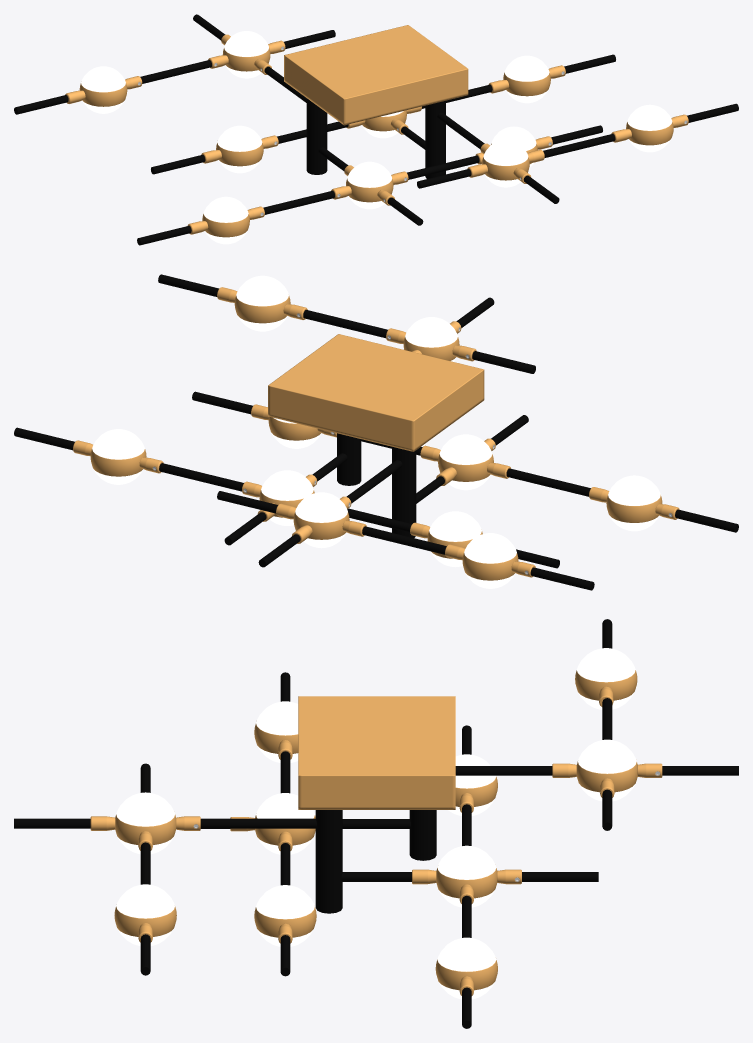
Rendered from 745147_bergamo_lightstar_ceiling_chandelier.glb.
3 renders of one model, top to bottom at view 1: azimuth 30°, elevation 25°; view 2: azimuth 150°, elevation 25°; view 3: azimuth 270°, elevation 25°, orthographic. The views are drawn at different scales.
Visible parts, largest first — view 1: Box014, Circle090, Circle086, Circle091, Circle092, Circle093, Circle089, Circle084, Circle088, Cylinder420, Cylinder412, Circle085 (+14 smaller); view 2: Box014, Circle092, Circle090, Circle086, Circle091, Circle084, Circle089, Cylinder420, Circle088, Circle093, Circle085, Cylinder412 (+14 smaller); view 3: Box014, Cylinder412, Circle087, Circle092, Circle086, Circle089, Circle088, Circle091, Circle085, Circle084, Circle090, Circle093 (+8 smaller).
Boxes of the visible parts, x1,y1,x2,y2 form: Box014: (284,25,468,125); Circle090: (202,196,249,244); Circle086: (503,55,550,103); Circle091: (79,66,127,113); Circle092: (626,104,673,152); Circle093: (216,125,263,173); Circle089: (222,31,270,78); Circle084: (346,161,393,209); Circle088: (482,140,529,187); Cylinder420: (306,98,327,174); Cylinder412: (425,100,445,178); Circle085: (362,110,406,138); Box014: (268,334,484,451); Circle092: (234,275,290,331); Circle090: (606,475,662,531); Circle086: (90,429,146,484); Circle091: (462,533,518,588); Circle084: (438,434,493,490); Circle089: (293,492,349,548); Cylinder420: (392,446,416,537); Circle088: (403,317,459,361); Circle093: (427,511,482,567); Circle085: (259,470,314,525); Cylinder412: (337,433,361,485); Box014: (298,696,455,809); Cylinder412: (315,810,342,913); Circle087: (254,885,316,946); Circle092: (114,884,176,945); Circle086: (435,937,497,999); Circle089: (576,739,637,801); Circle088: (115,792,176,854); Circle091: (575,648,637,709); Circle085: (436,845,497,907); Circle084: (255,793,315,854); Circle090: (254,701,298,762); Circle093: (448,754,497,815).
Size of the model in its own units: 788 by 154 by 694.
